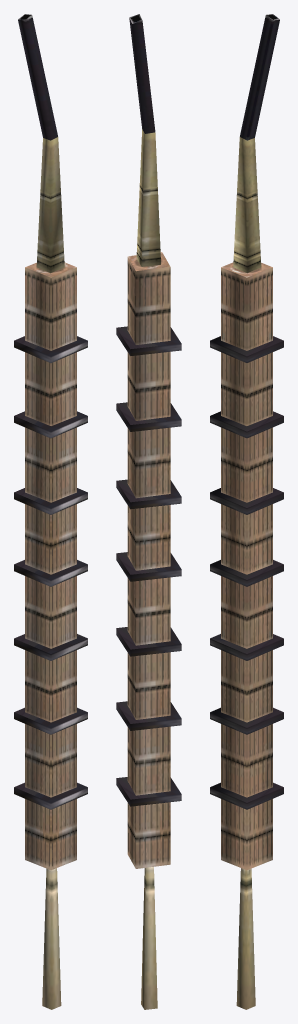
Rendered from eqp_music_fanfar_l1.fbx.
3 renders of one model, left to right at view 1: azimuth 90°, elevation 25°; view 2: azimuth 150°, elevation 25°; view 3: azimuth 270°, elevation 25°, orthographic.
Parts seen in each view (by area): view 1: mesh_node; view 2: mesh_node; view 3: mesh_node.
Boxes of the visible parts, box(x1,y1,x2,y2) form: mesh_node: box(14, 14, 87, 1009); mesh_node: box(116, 14, 181, 1009); mesh_node: box(210, 14, 283, 1009).
Bounding box in the file's own units: 0.0387 × 0.5672 × 0.0382.
Materials: 1 (1 with a texture image).
